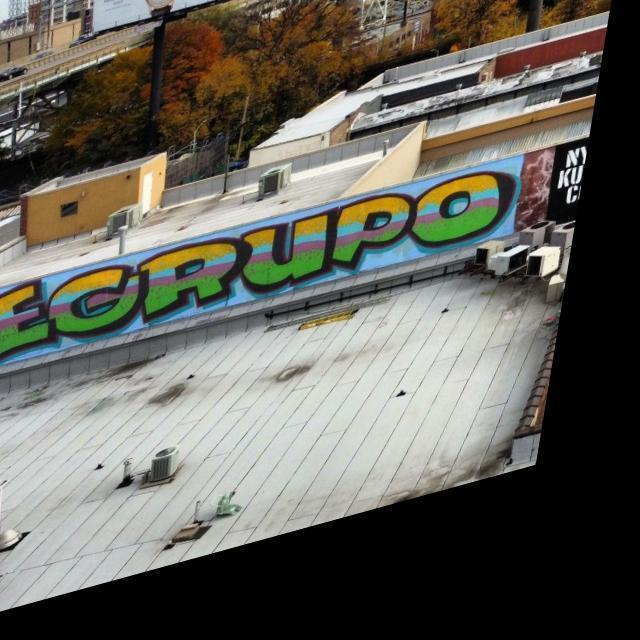nonspitting: (0, 170, 520, 353), (554, 144, 589, 210)
